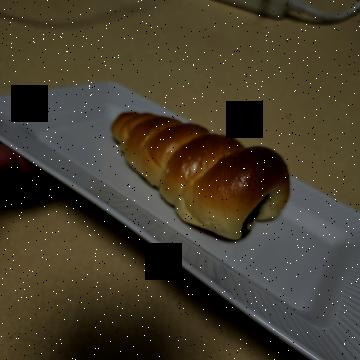cream horn: (105, 66, 259, 273)
